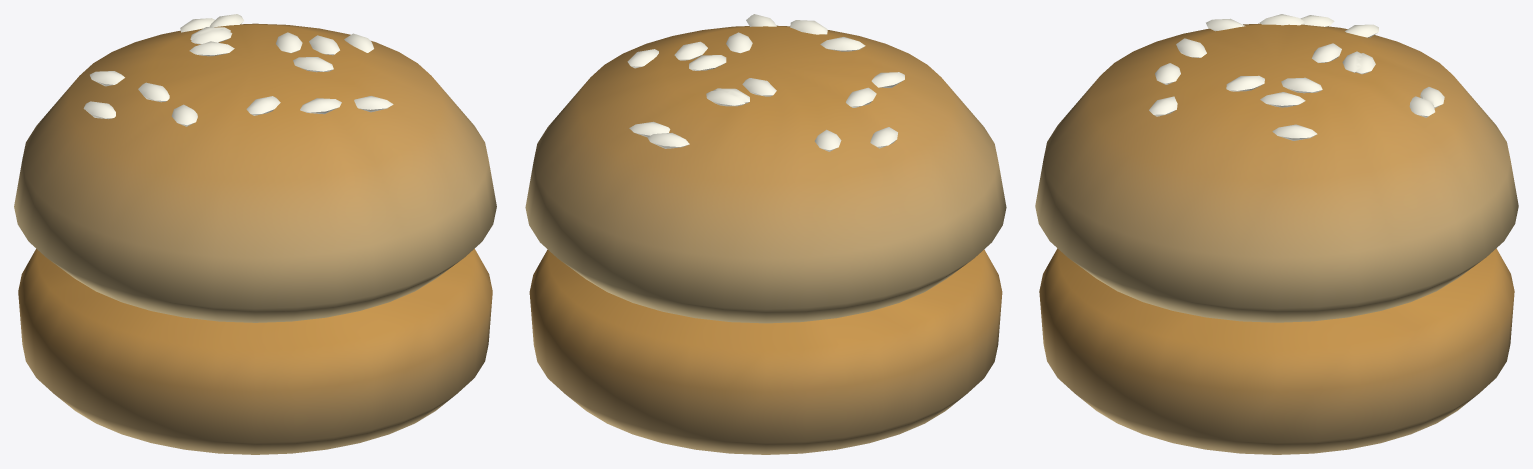
Rendered from kr_bun.glb.
3 views of the same model, side by side, from view 1: azimuth 30°, elevation 25°; view 2: azimuth 150°, elevation 25°; view 3: azimuth 270°, elevation 25° (orthographic).
Visible parts, largest first — view 1: vc_m0_r4, vc_m0_r6; view 2: vc_m0_r4, vc_m0_r6; view 3: vc_m0_r4, vc_m0_r6.
Part boxes in pixels (left/top/right/bottom): vc_m0_r4: left=14, top=23, right=496, bottom=454; vc_m0_r6: left=83, top=14, right=393, bottom=126; vc_m0_r4: left=525, top=25, right=1006, bottom=454; vc_m0_r6: left=627, top=14, right=904, bottom=151; vc_m0_r4: left=1035, top=23, right=1518, bottom=454; vc_m0_r6: left=1149, top=14, right=1444, bottom=140.
Bounding box in the file's own units: 0.232 × 0.1642 × 0.232.
